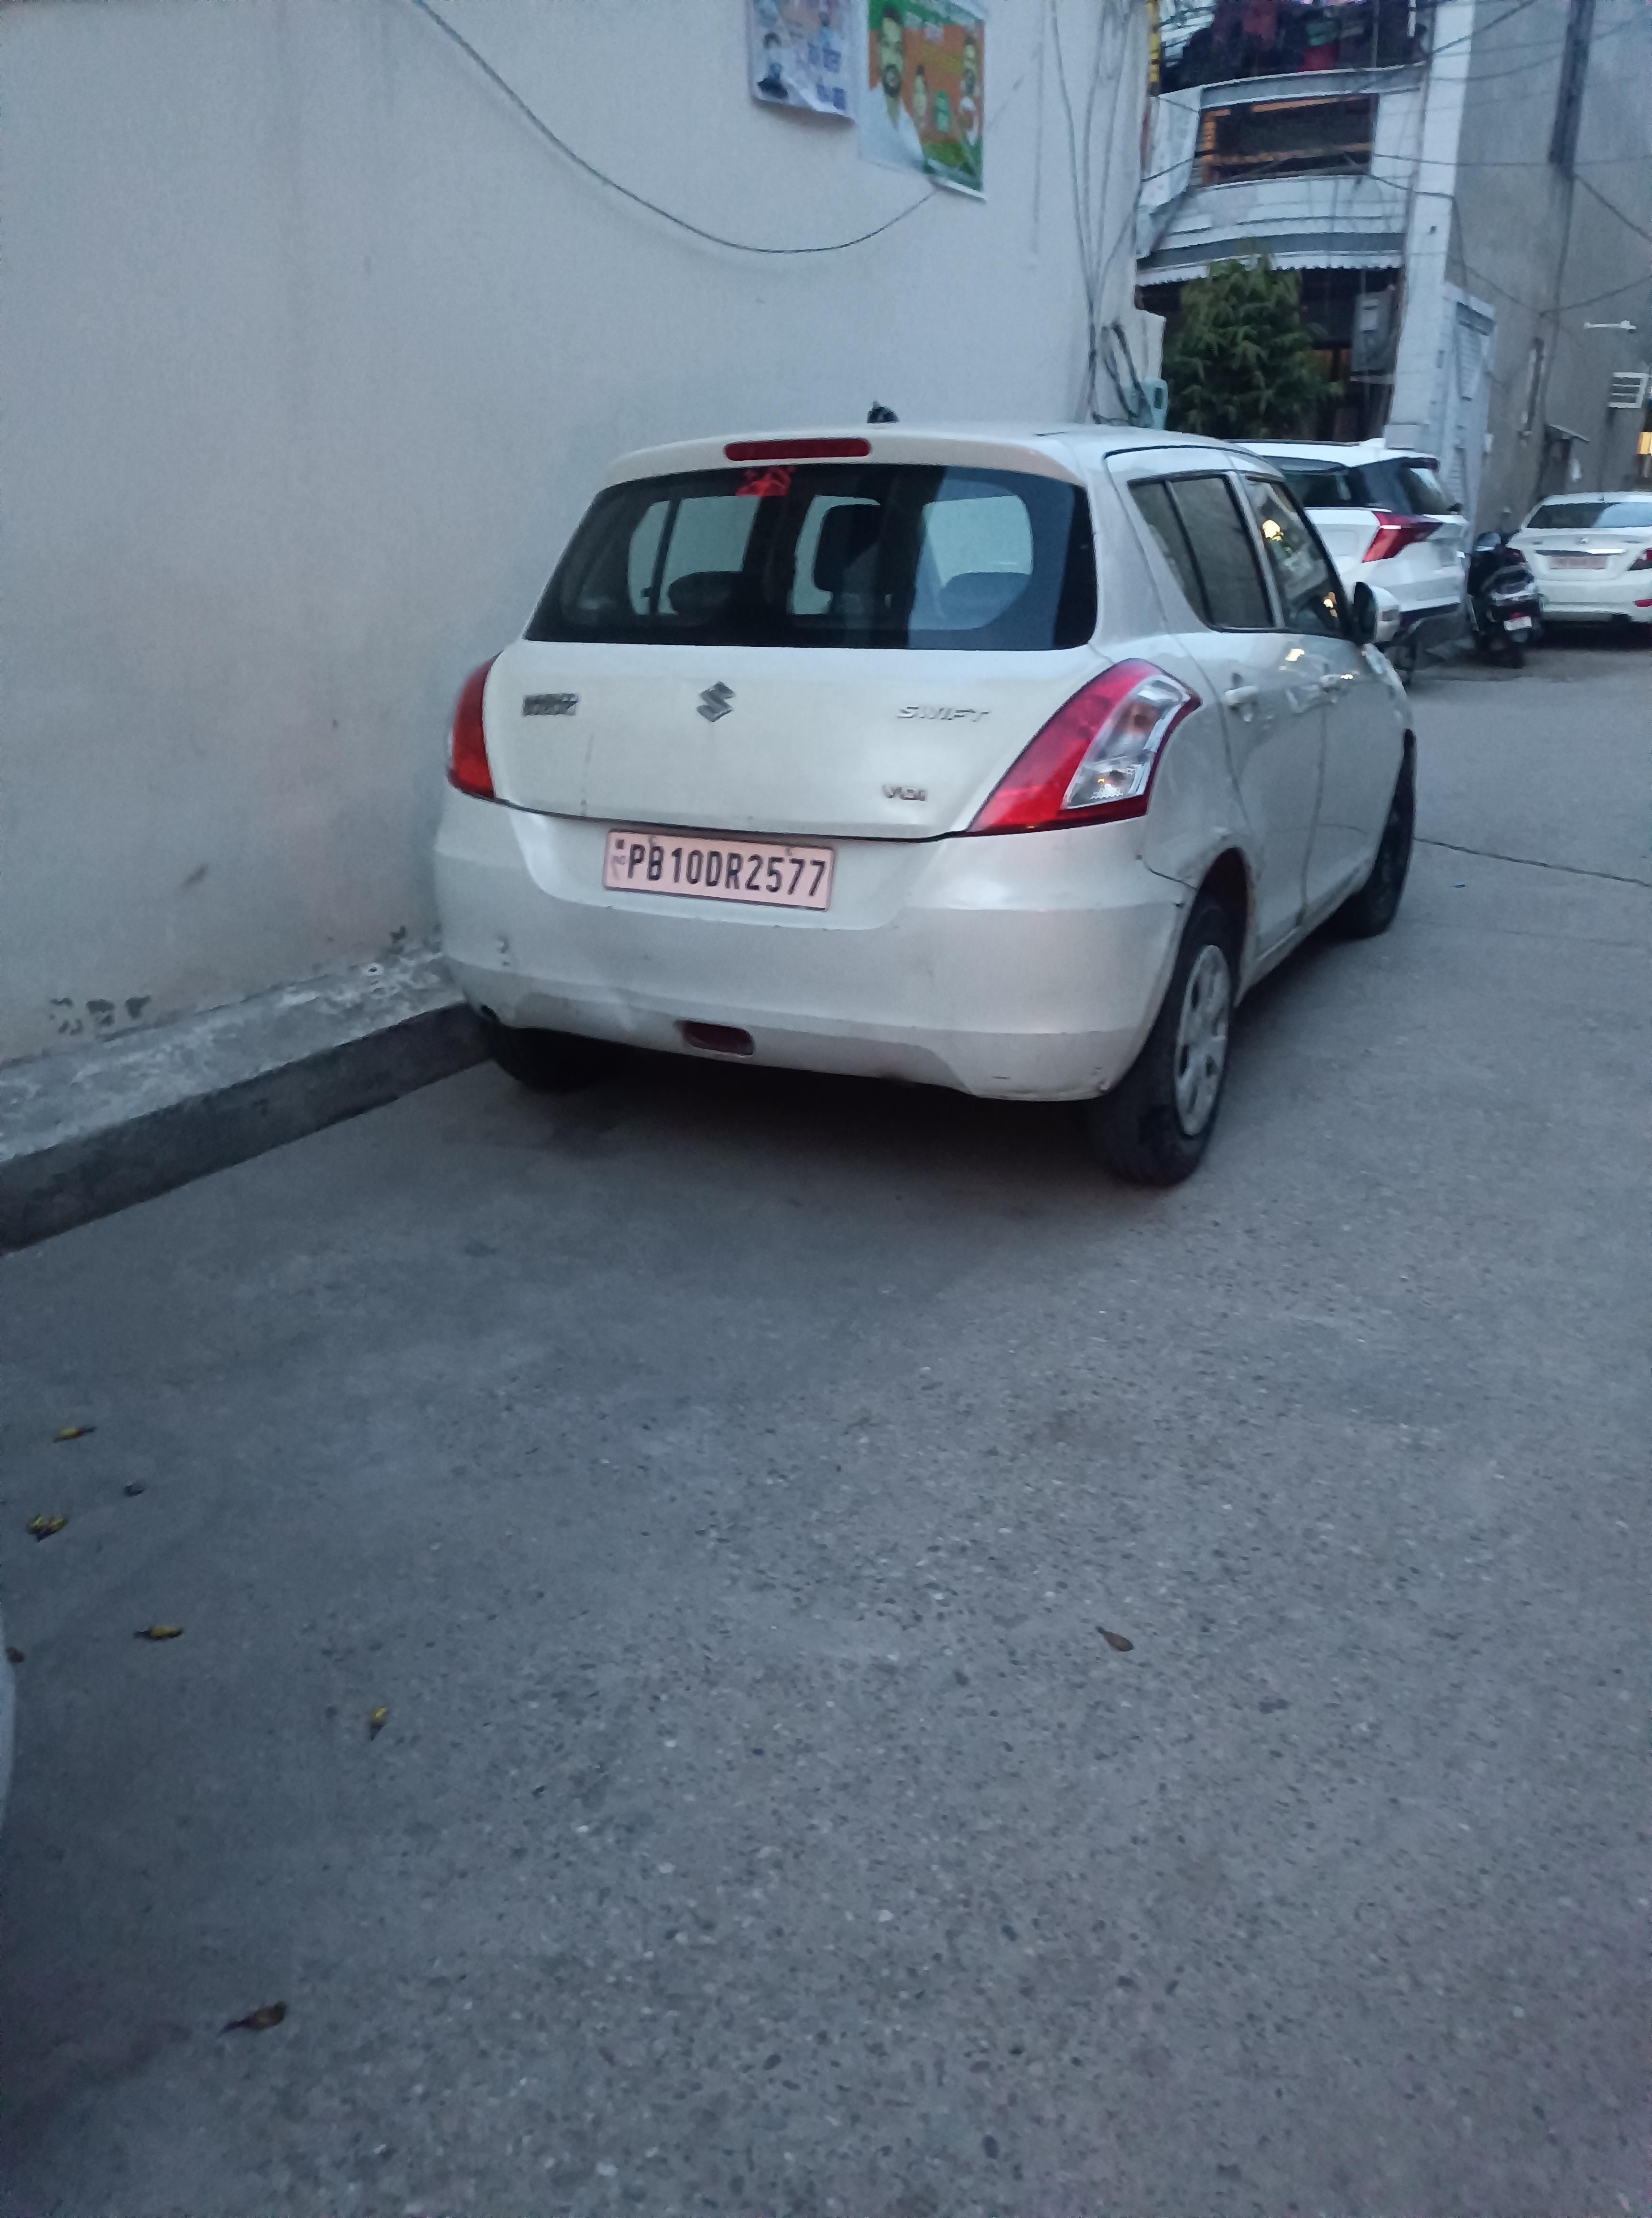license_plate: (602, 818, 846, 922)
